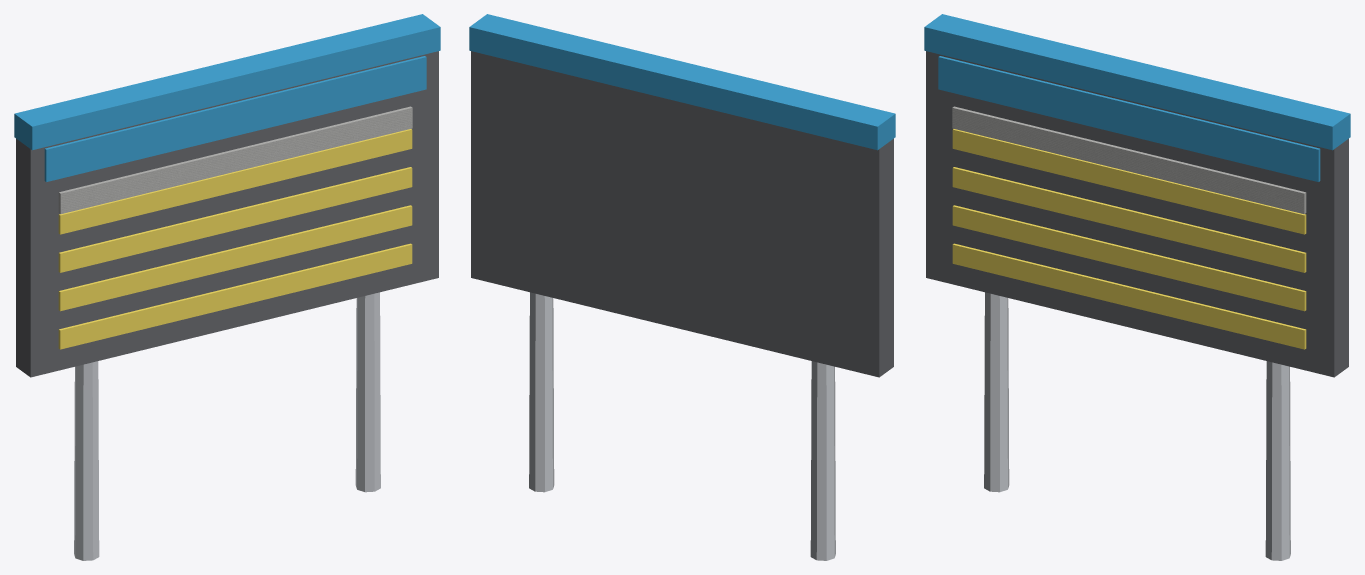
File: bus-station-and-city-transit-departure-board-stand-3a657419__34208.glb
3 renders of one model, left to right at view 1: azimuth 30°, elevation 25°; view 2: azimuth 150°, elevation 25°; view 3: azimuth 330°, elevation 25°, orthographic.
Visible parts, largest first — view 1: departure-board-stand-charcoal, departure-board-stand-azure, departure-board-stand-canary, departure-board-stand-steel, flap; view 2: departure-board-stand-charcoal, departure-board-stand-azure, departure-board-stand-steel; view 3: departure-board-stand-charcoal, departure-board-stand-azure, departure-board-stand-canary, departure-board-stand-steel, flap.
Part boxes in pixels (bbox=[...]): departure-board-stand-charcoal: bbox=[16, 51, 438, 377]; departure-board-stand-azure: bbox=[14, 14, 440, 181]; departure-board-stand-canary: bbox=[58, 129, 412, 349]; departure-board-stand-steel: bbox=[74, 292, 380, 560]; flap: bbox=[58, 106, 412, 214]; departure-board-stand-charcoal: bbox=[471, 51, 893, 377]; departure-board-stand-azure: bbox=[469, 14, 895, 150]; departure-board-stand-steel: bbox=[529, 292, 835, 560]; departure-board-stand-charcoal: bbox=[926, 51, 1348, 377]; departure-board-stand-azure: bbox=[924, 14, 1350, 181]; departure-board-stand-canary: bbox=[952, 129, 1306, 349]; departure-board-stand-steel: bbox=[984, 292, 1290, 560]; flap: bbox=[952, 106, 1306, 214].
Bounding box in the file's own units: 2.9 × 3.06 × 0.2224.
5 materials, 1 textured.
